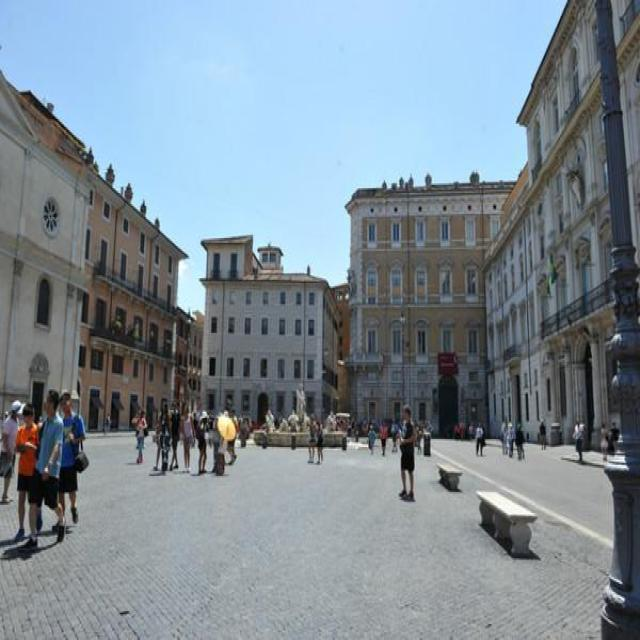non-fight: (32, 388, 66, 545), (390, 404, 422, 498)
